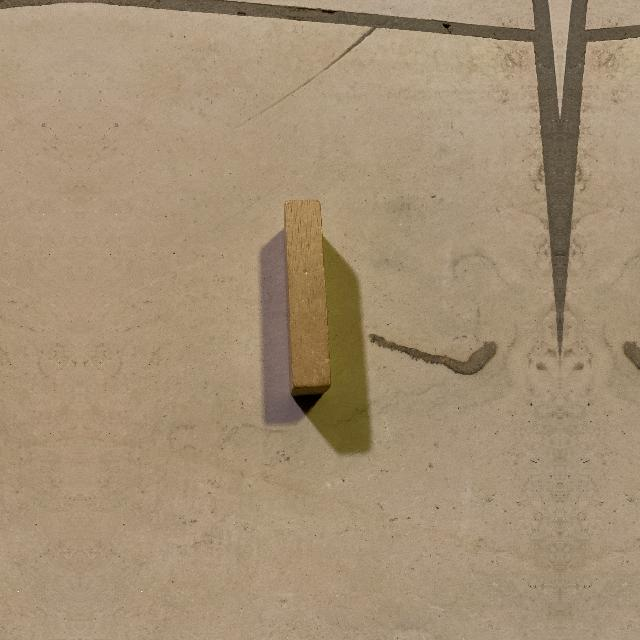jenga: (285, 199, 331, 394)
